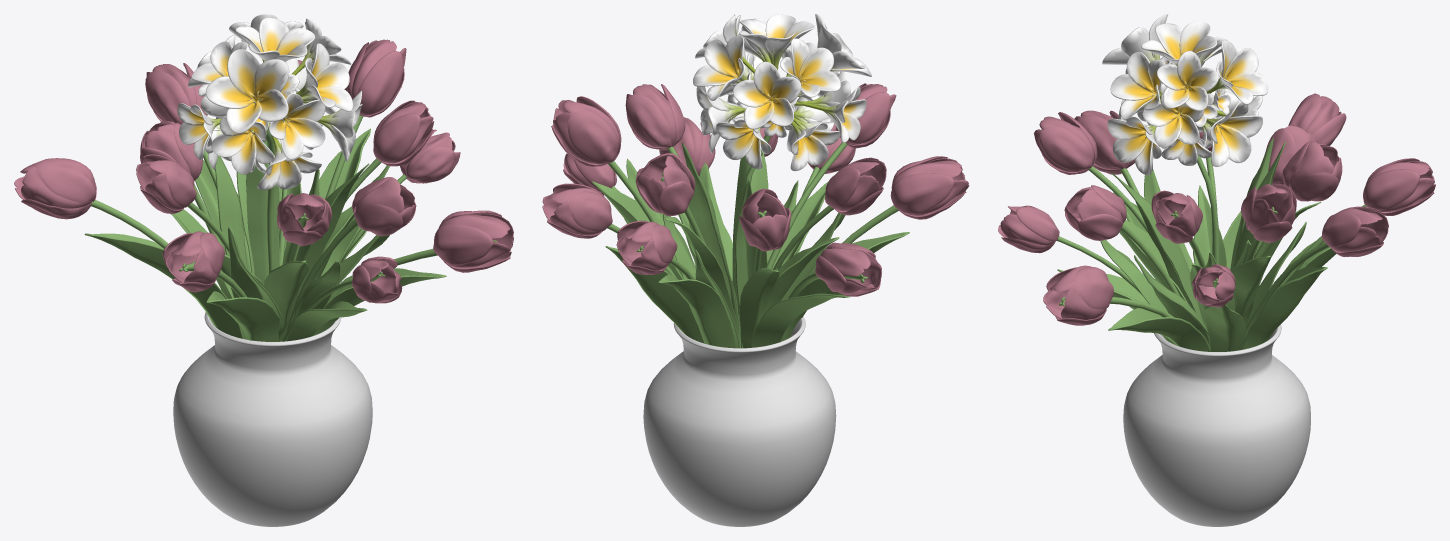
File: mothers day bouquet.glb
3 renders of one model, left to right at view 1: azimuth 30°, elevation 25°; view 2: azimuth 150°, elevation 25°; view 3: azimuth 270°, elevation 25°, orthographic. The views are drawn at different scales.
Visible parts, largest first — view 1: vase_mesh, Circle.006, leaf_012_mesh, leaf_002_mesh, Circle.009, Circle, Circle.001, leaf_003_mesh, Circle.012, petal_012_mesh, petal_050_mesh, petal_038_mesh (+36 smaller); view 2: vase_mesh, Circle.003, leaf_015_mesh, leaf_002_mesh, Circle.005, Circle.002, leaf_012_mesh, petal_042_mesh, petal_006_mesh, leaf_018_mesh, Circle, leaf_001_mesh (+44 smaller); view 3: vase_mesh, Circle.010, leaf_018_mesh, Circle.001, Circle.004, Circle.005, Circle.013, leaf_020_mesh, leaf_008_mesh, Circle, Circle.007, petal_066_mesh (+40 smaller).
Boxes of the visible parts, <box> form: vase_mesh: <box>173,312,372,526</box>; Circle.006: <box>205,49,289,133</box>; leaf_012_mesh: <box>246,141,279,284</box>; leaf_002_mesh: <box>84,233,243,338</box>; Circle.009: <box>268,93,325,159</box>; Circle: <box>235,18,315,61</box>; Circle.001: <box>296,43,352,111</box>; leaf_003_mesh: <box>206,291,281,341</box>; Circle.012: <box>211,116,274,174</box>; petal_012_mesh: <box>36,158,95,202</box>; petal_050_mesh: <box>433,224,493,265</box>; petal_038_mesh: <box>357,51,403,116</box>; vase_mesh: <box>643,317,836,526</box>; Circle.003: <box>733,61,801,129</box>; leaf_015_mesh: <box>658,274,735,348</box>; leaf_002_mesh: <box>751,278,849,347</box>; Circle.005: <box>693,35,747,100</box>; Circle.002: <box>780,38,840,97</box>; leaf_012_mesh: <box>681,142,740,339</box>; petal_042_mesh: <box>567,110,618,164</box>; petal_006_mesh: <box>890,173,954,214</box>; leaf_018_mesh: <box>605,246,704,343</box>; Circle: <box>739,14,814,70</box>; leaf_001_mesh: <box>739,267,779,348</box>; vase_mesh: <box>1123,324,1310,526</box>; Circle.010: <box>1157,51,1218,110</box>; leaf_018_mesh: <box>1242,267,1327,349</box>; Circle.001: <box>1110,52,1165,119</box>; Circle.004: <box>1206,101,1262,166</box>; Circle.005: <box>1206,40,1268,104</box>; Circle.013: <box>1107,116,1161,175</box>; leaf_020_mesh: <box>1108,308,1210,351</box>; leaf_008_mesh: <box>1111,172,1203,322</box>; Circle: <box>1141,21,1217,65</box>; Circle.007: <box>1142,87,1204,147</box>; petal_066_mesh: <box>1039,126,1092,171</box>.
Bounding box in the file's own units: 0.5298 × 0.6523 × 0.5547.
4 materials, 1 textured.
